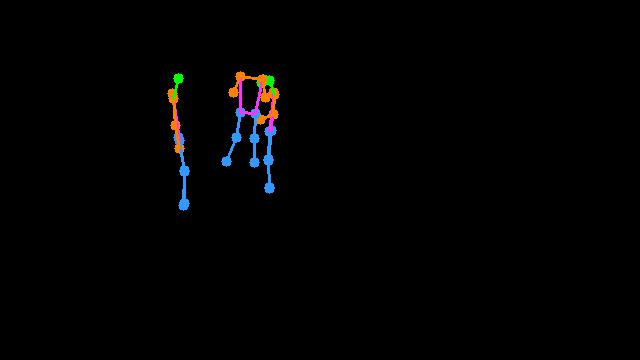normal: (207, 57, 307, 212), (146, 59, 217, 224)
